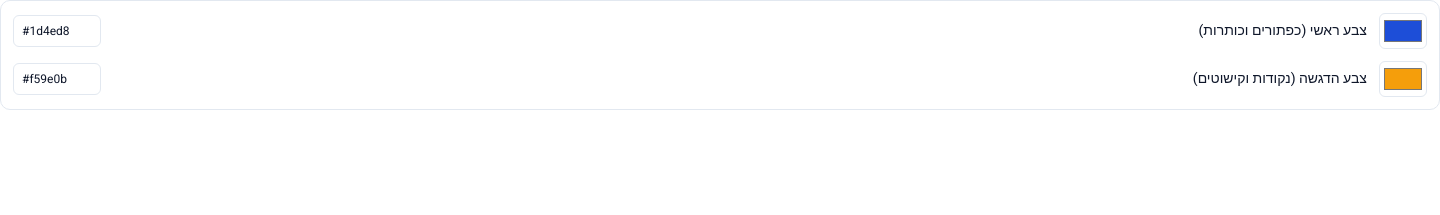
Scenario: custom colours (D-083) › applies readable colours, and offers a fix for a main colour too light for white text
Replace the text in the field named "צבע ראשי (כפתורים וכותרות), קוד" with "#ffd166" at (57, 31), box [13, 15, 101, 47]
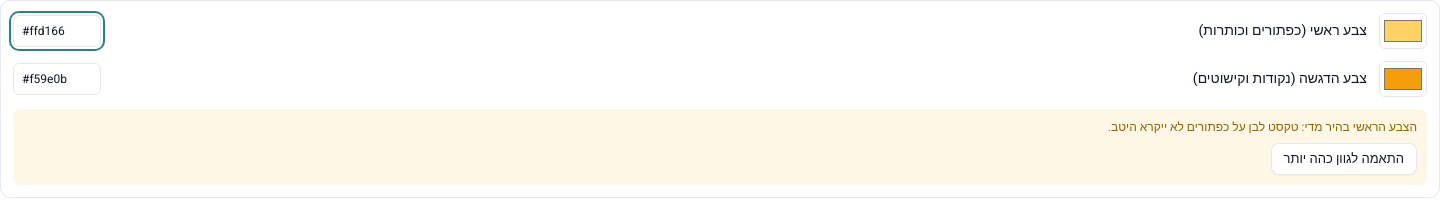
Check: the message shows "בהיר מדי", box [1108, 118, 1417, 136]
Click the button "התאמה לגוון כהה יותר".
click(1344, 159)  # box [1270, 143, 1417, 175]
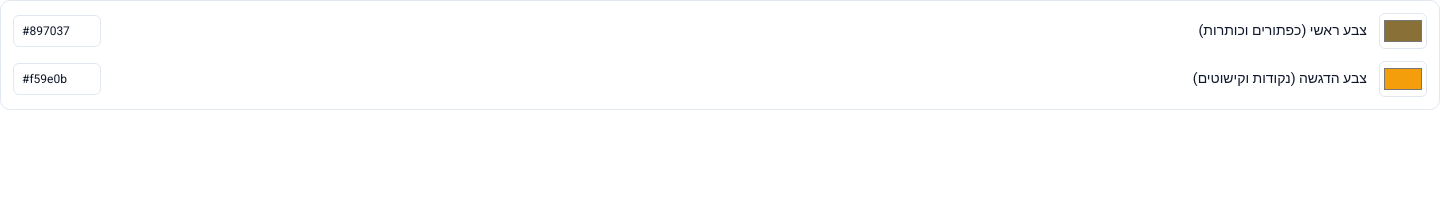
Check: the message "הצבע הראשי בהיר מדי: טקסט לבן על כפתורים לא ייקרא היטב. התאמה לגוון כהה יותר" is gone
